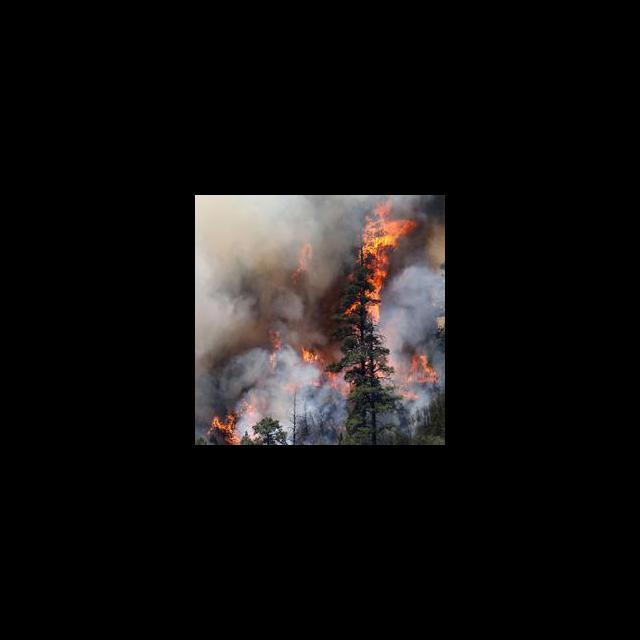Fire: (345, 200, 419, 326), (298, 343, 432, 399), (204, 393, 256, 442), (289, 237, 318, 274)
Smoke: (197, 198, 280, 386), (391, 258, 442, 340)
